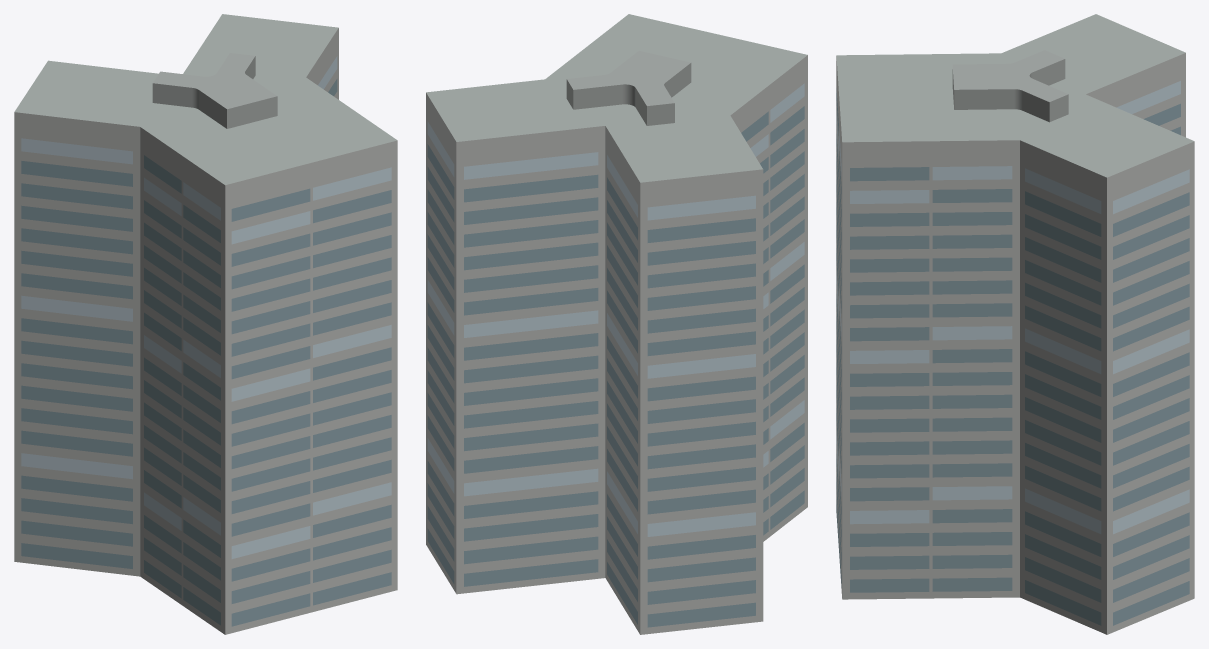
The model's file is fallback-godeok-ipark-107.glb.
3 views of the same model, side by side, from view 1: azimuth 30°, elevation 25°; view 2: azimuth 150°, elevation 25°; view 3: azimuth 270°, elevation 25° (orthographic).
Parts seen in each view (by area): view 1: fallback-godeok-ipark-107; view 2: fallback-godeok-ipark-107; view 3: fallback-godeok-ipark-107.
Part boxes in pixels (<box>): fallback-godeok-ipark-107: <box>14,14,397,634</box>; fallback-godeok-ipark-107: <box>426,14,807,634</box>; fallback-godeok-ipark-107: <box>836,14,1194,634</box>.
Bounding box in the file's own units: 41.93 × 57 × 38.79.
